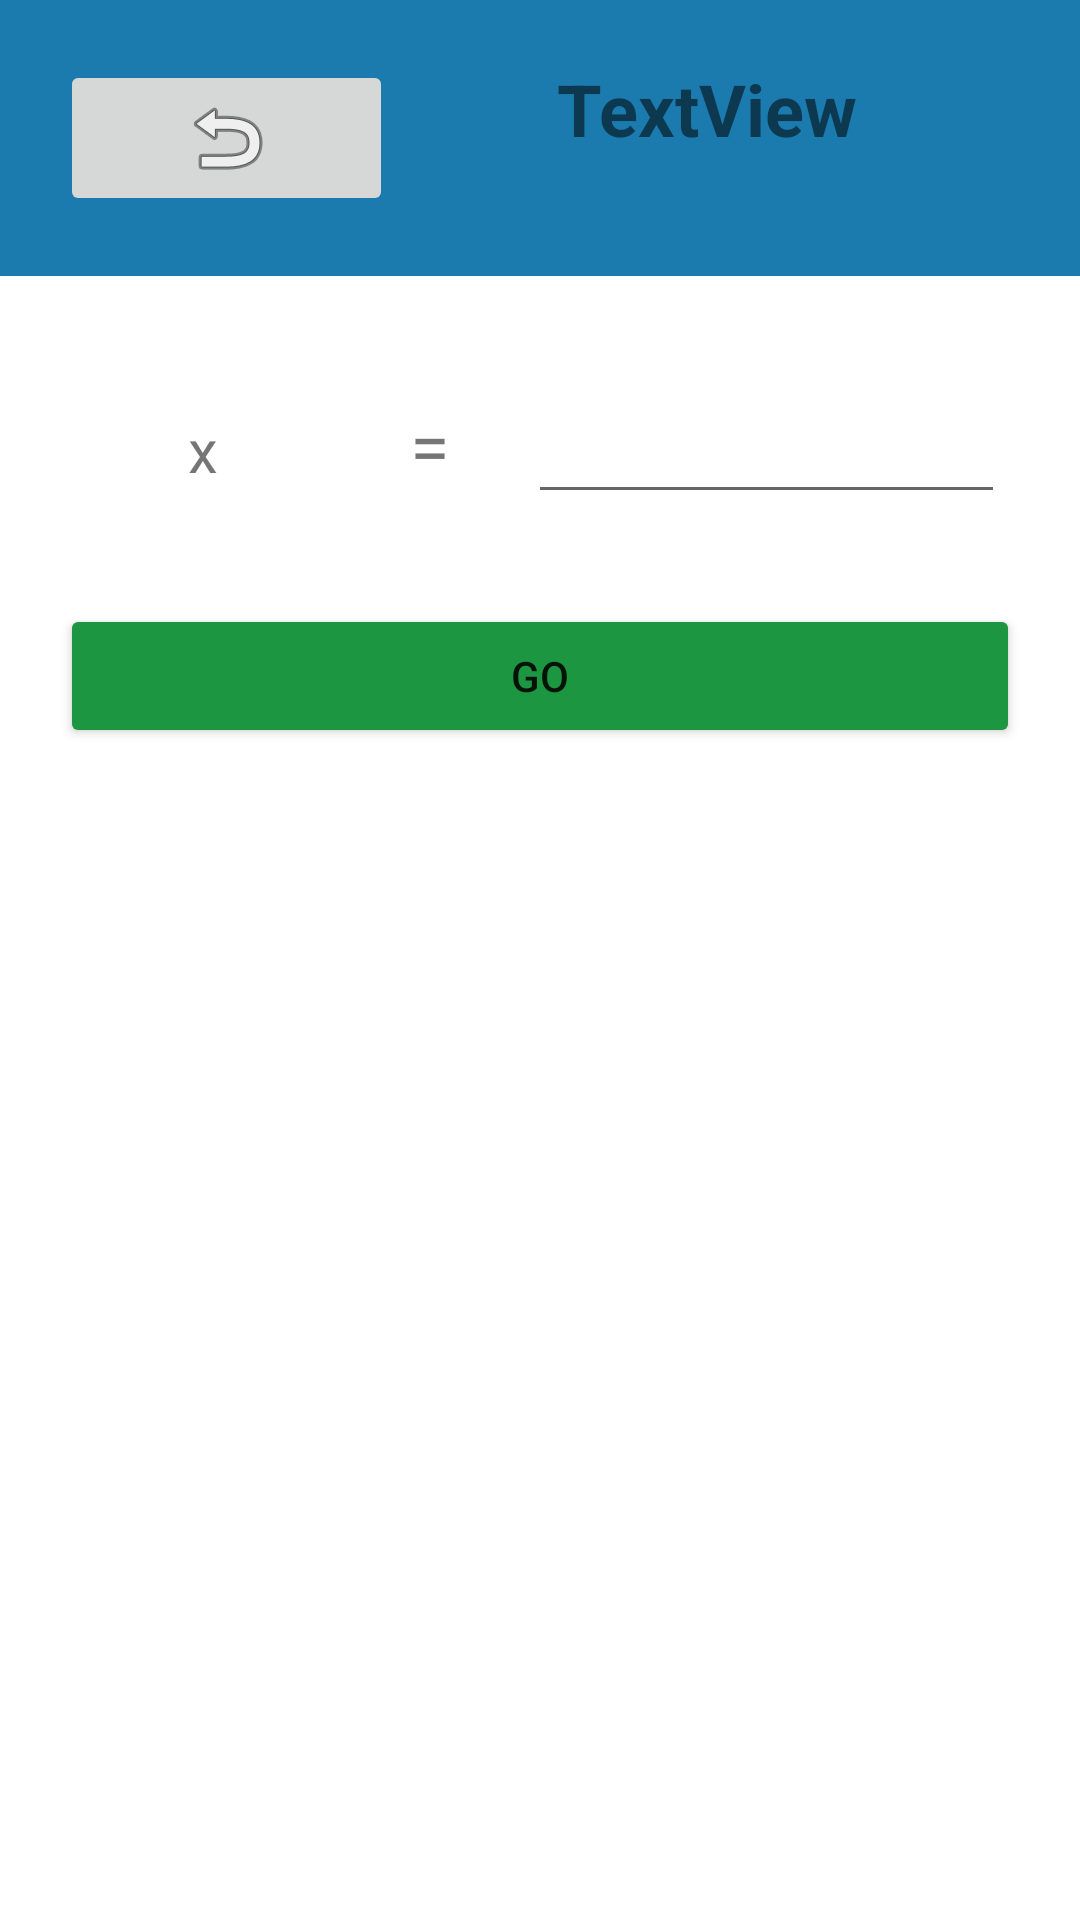

Point at icon controls on the screen. Image size 1080x1920, points as (x=x, y=y).
revert: (x=226, y=138)
